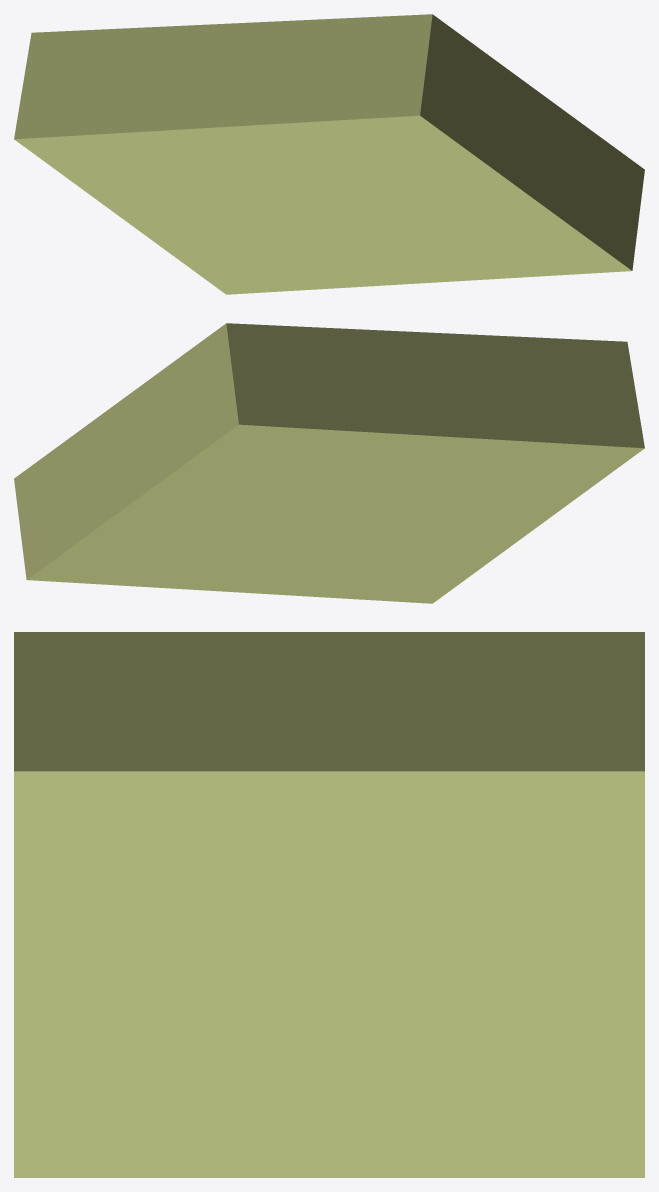
3 views of the same model, one above another, from view 1: azimuth 30°, elevation 25°; view 2: azimuth 150°, elevation 25°; view 3: azimuth 270°, elevation 25° (orthographic). The views are drawn at different scales.
Parts seen in each view (by area): view 1: 0_2_1_0_0_0_0_0_0_3_3; view 2: 0_2_1_0_0_0_0_0_0_3_3; view 3: 0_2_1_0_0_0_0_0_0_3_3.
Boxes of the visible parts, x1,y1,x2,y2 form: 0_2_1_0_0_0_0_0_0_3_3: (14,14,644,294); 0_2_1_0_0_0_0_0_0_3_3: (14,323,644,603); 0_2_1_0_0_0_0_0_0_3_3: (14,632,644,1177).
Bounding box in the file's own units: 10.24 × 4.16 × 9.
